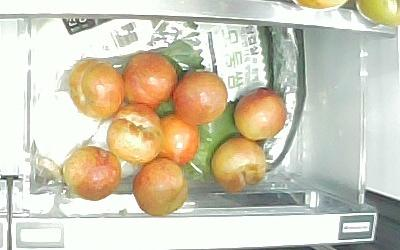prune: (68, 58, 124, 120), (132, 159, 188, 216), (210, 136, 268, 191), (63, 146, 121, 201), (108, 105, 163, 162), (172, 70, 228, 124), (124, 53, 178, 108), (232, 88, 287, 141), (159, 115, 201, 164)
